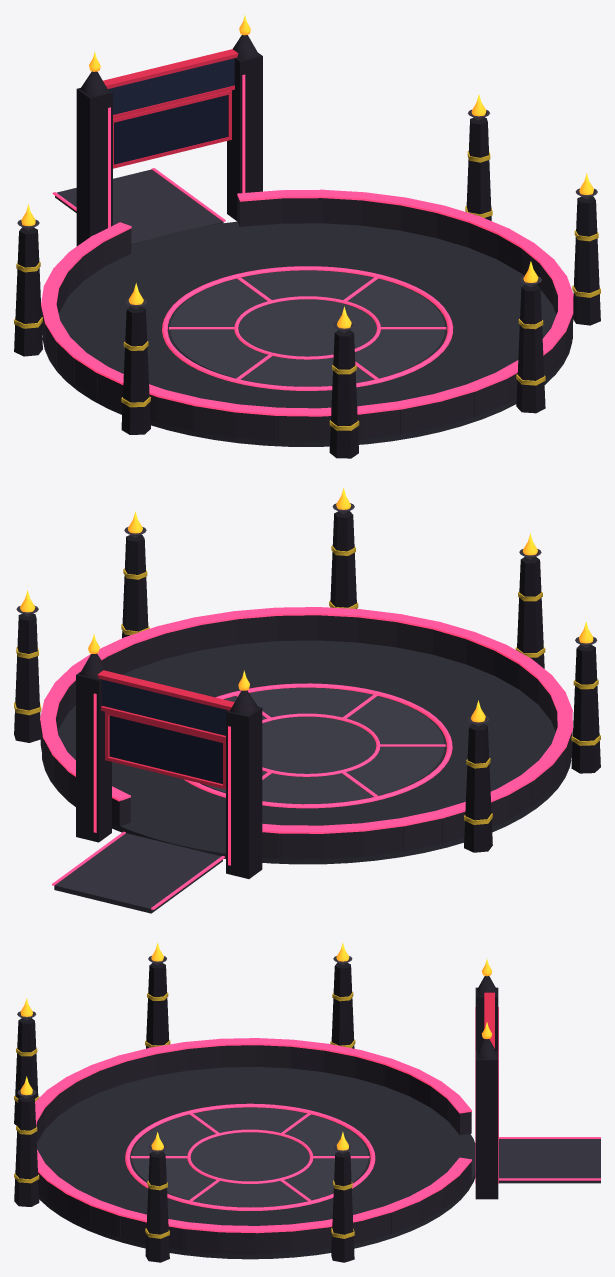
File: Hub_OverlordArena.glb
3 renders of one model, top to bottom at view 1: azimuth 30°, elevation 25°; view 2: azimuth 150°, elevation 25°; view 3: azimuth 270°, elevation 25°, orthographic. The views are drawn at different scales.
Parts seen in each view (by area): view 1: Floor, InnerFloor, Wall, Pillars, WallGlow, Gate, Emblem, Path, TimerScreen, Header, Frame, Bands (+3 smaller); view 2: Floor, Wall, InnerFloor, Pillars, Gate, WallGlow, Path, TimerScreen, Emblem, Frame, Header, Bands (+3 smaller); view 3: Floor, Wall, InnerFloor, Pillars, WallGlow, Gate, Path, Emblem, Bands, Flames, GateGlow, Frame (+1 smaller).
Part boxes in pixels (x1,y1,x2,y2): Floor: (42,221,572,446); InnerFloor: (170,270,445,386); Wall: (41,196,573,441); Pillars: (14,117,600,458); WallGlow: (41,189,573,416); Gate: (76,35,262,246); Emblem: (162,266,453,390); Path: (55,169,223,245); TimerScreen: (114,95,228,164); Header: (108,58,234,114); Frame: (103,49,238,168); Bands: (14,151,600,430); Floor: (42,640,571,864); Wall: (40,615,572,859); InnerFloor: (200,687,444,804); Pillars: (14,511,600,852); Gate: (76,653,262,878); WallGlow: (40,607,572,833); Path: (54,833,222,913); TimerScreen: (109,715,222,783); Emblem: (184,683,452,808); Frame: (97,670,234,789); Header: (102,679,227,735); Bands: (14,545,600,824); Floor: (36,1067,475,1259); Wall: (36,1045,471,1254); InnerFloor: (132,1107,368,1207); Pillars: (14,962,354,1262); WallGlow: (35,1038,471,1233); Gate: (475,976,498,1199); Path: (499,1139,600,1183); Emblem: (125,1103,375,1210); Bands: (14,992,355,1238); Flames: (20,942,491,1150); GateGlow: (475,1007,600,1183); Frame: (484,992,494,1048).
Size of the model in its own units: 53.83 by 21.8 by 66.95.
